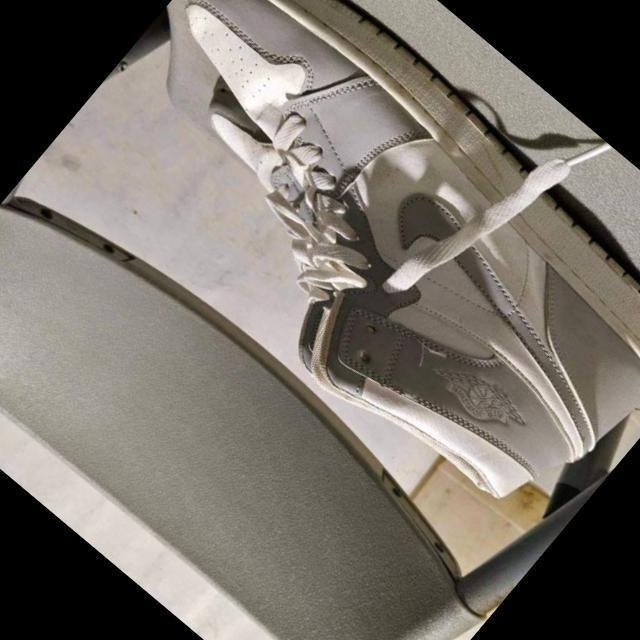nike original air force: (49, 0, 640, 554)
